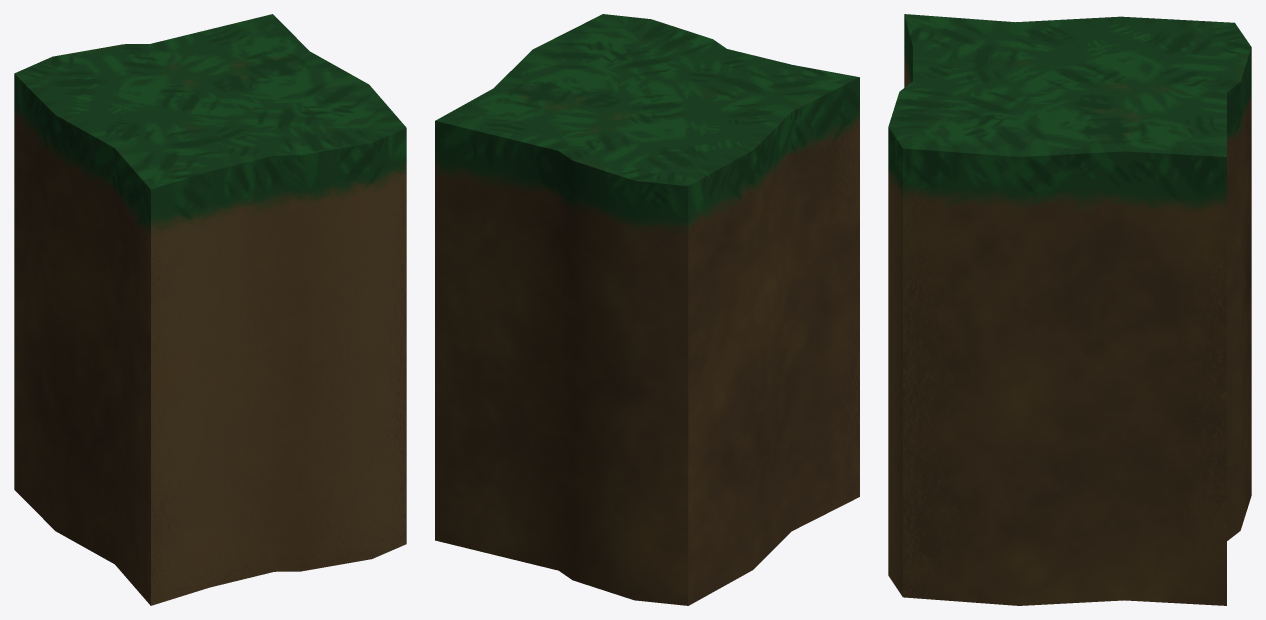
The model's file is Fantasy_TallMid_Forest_Platform_Unchecked_ME.fbx.
3 renders of one model, left to right at view 1: azimuth 30°, elevation 25°; view 2: azimuth 150°, elevation 25°; view 3: azimuth 270°, elevation 25°, orthographic. The views are drawn at different scales.
Visible parts, largest first — view 1: ForestLongMid; view 2: ForestLongMid; view 3: ForestLongMid.
Boxes of the visible parts, x1=… form: ForestLongMid: x1=14, y1=14, x2=406, y2=605; ForestLongMid: x1=435, y1=14, x2=859, y2=605; ForestLongMid: x1=888, y1=14, x2=1251, y2=605.
Bounding box in the file's own units: 134 × 144 × 196.
1 material, 1 textured.
